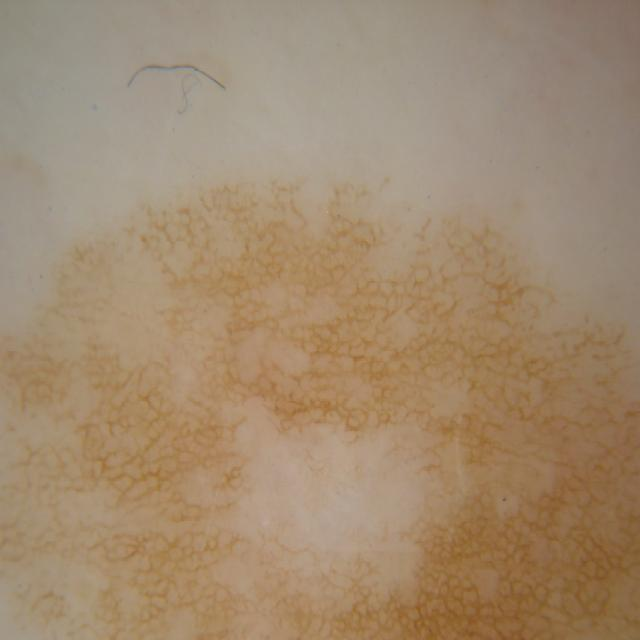Melanoma: (0, 176, 640, 640)
